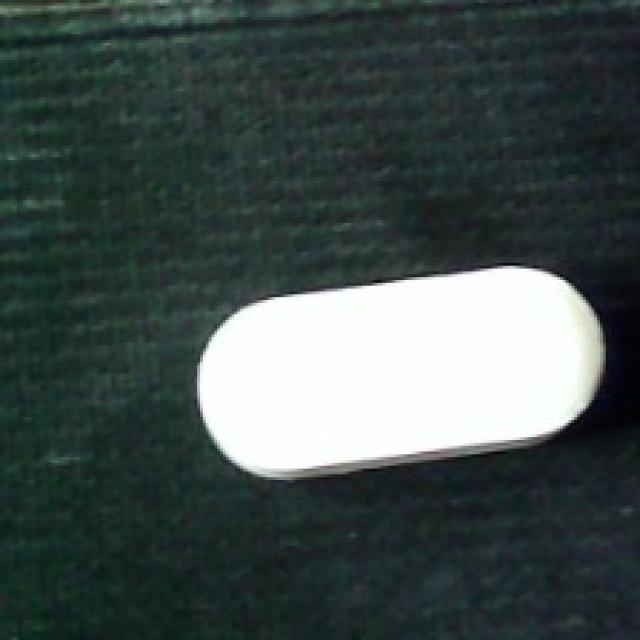no-defect: (192, 260, 608, 483)
